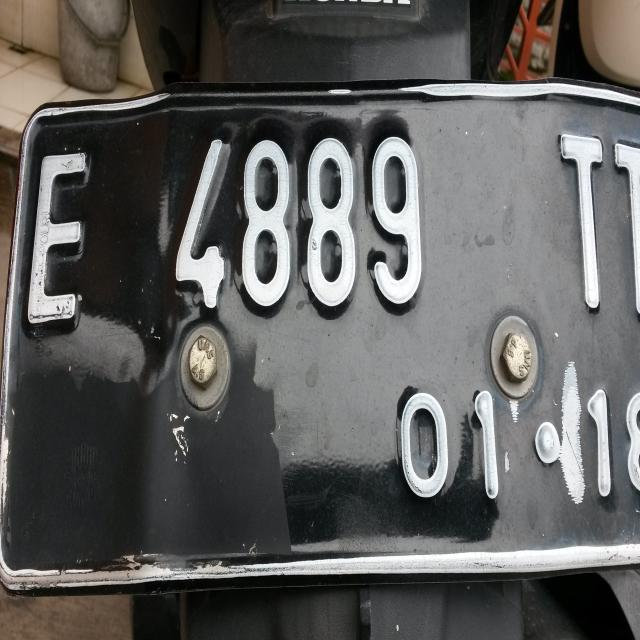plate: (0, 92, 640, 596)
